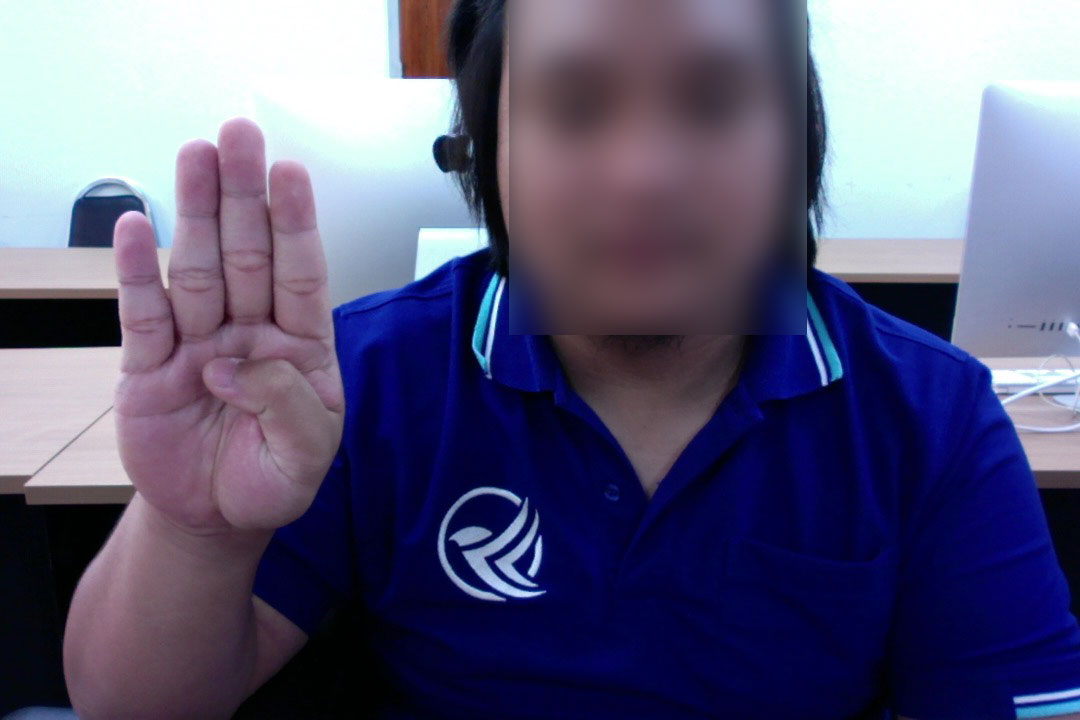bor: (95, 99, 357, 535)
